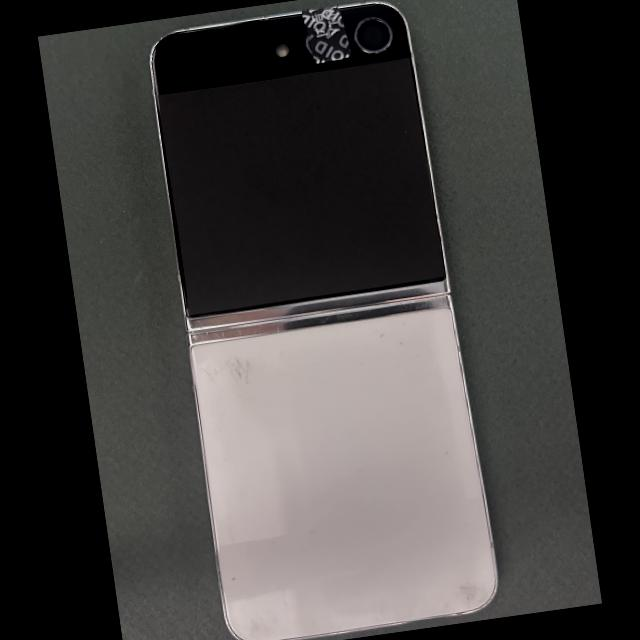lens: (353, 17, 391, 54), (306, 36, 313, 54)
phone: (150, 3, 496, 639)
sticker: (301, 5, 352, 64)
